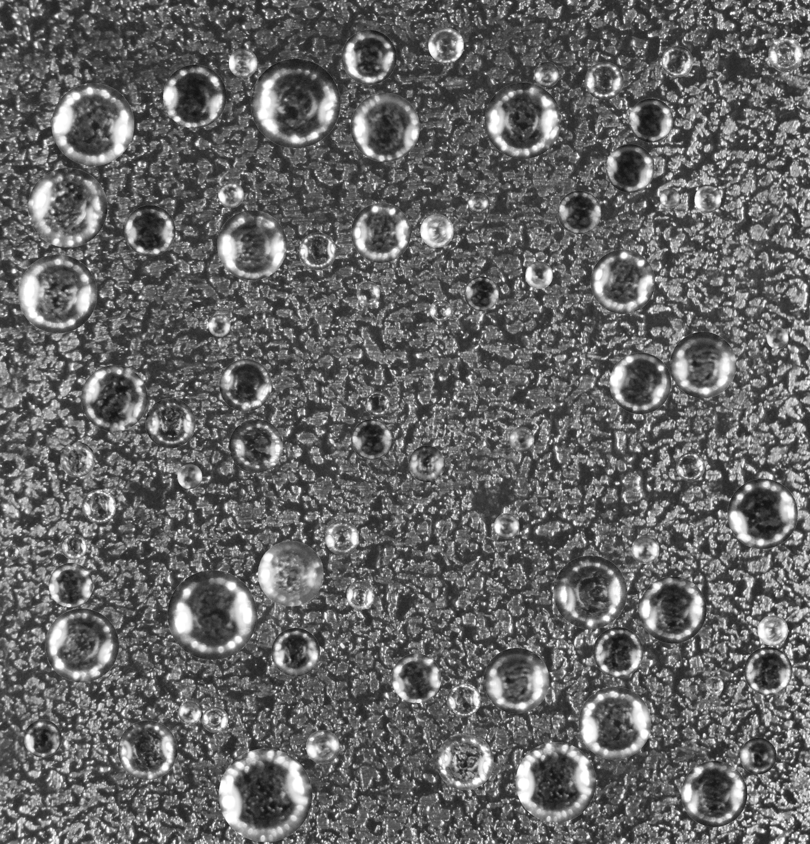Bubble: (218, 748, 312, 842), (250, 58, 340, 148), (167, 570, 256, 659), (51, 83, 134, 165), (515, 742, 596, 822), (27, 167, 107, 247), (18, 254, 97, 333), (484, 82, 561, 158), (553, 555, 627, 629), (45, 608, 118, 682), (578, 687, 651, 759), (727, 478, 797, 549), (217, 210, 286, 280), (350, 92, 419, 161), (639, 576, 706, 643), (670, 331, 736, 398), (81, 365, 147, 431), (681, 761, 747, 827), (483, 648, 549, 713), (258, 541, 323, 606), (590, 249, 655, 313), (163, 64, 226, 128), (609, 352, 671, 414), (117, 720, 177, 780), (351, 203, 410, 262), (436, 733, 493, 790), (341, 29, 396, 84), (229, 419, 282, 472), (219, 359, 271, 411), (124, 205, 175, 256), (145, 398, 195, 448), (391, 653, 441, 703), (593, 627, 643, 677), (744, 647, 792, 695), (271, 628, 319, 676), (606, 144, 654, 192), (557, 190, 601, 234), (629, 98, 673, 142), (48, 563, 92, 607), (351, 419, 391, 459), (585, 61, 623, 100), (23, 719, 61, 757), (299, 232, 336, 269), (408, 445, 445, 482), (740, 737, 776, 774), (428, 27, 463, 63), (60, 442, 95, 477), (768, 37, 803, 72), (464, 276, 498, 310), (447, 683, 480, 717), (82, 489, 115, 523), (325, 521, 358, 554), (306, 730, 339, 763), (420, 214, 453, 247), (661, 45, 693, 77), (757, 615, 788, 645), (228, 48, 257, 77), (676, 452, 704, 481), (346, 581, 374, 609), (631, 536, 659, 563), (525, 261, 552, 288), (694, 185, 721, 212), (202, 706, 228, 732), (534, 61, 559, 87), (509, 426, 534, 452), (218, 182, 243, 207), (365, 391, 390, 416), (61, 534, 86, 559), (177, 464, 202, 489), (494, 513, 519, 538), (356, 281, 379, 305), (178, 701, 201, 724), (766, 327, 788, 349), (208, 314, 230, 336), (429, 299, 451, 321), (467, 191, 489, 212), (659, 187, 679, 207), (705, 676, 723, 694), (4, 545, 19, 559), (254, 310, 265, 322)
